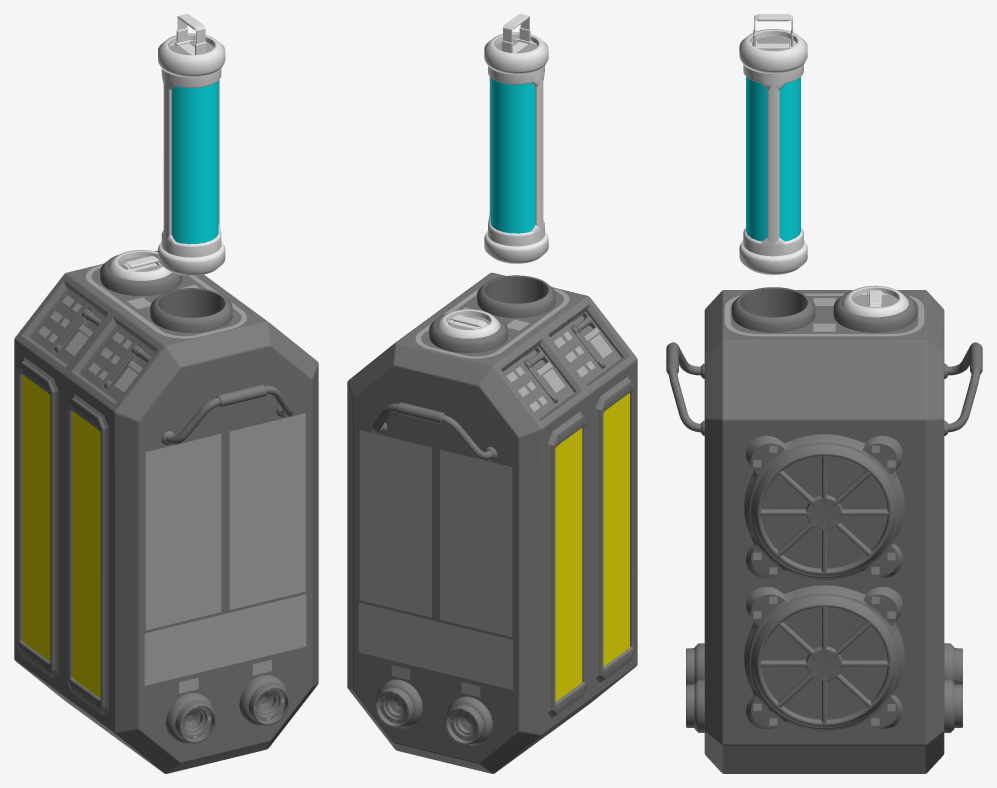
File: Generator_low.fbx
3 views of the same model, side by side, from view 1: azimuth 30°, elevation 25°; view 2: azimuth 150°, elevation 25°; view 3: azimuth 270°, elevation 25° (orthographic). The views are drawn at different scales.
Visible parts, largest first — view 1: Body_low, Powercell_1_low, Trimsheet_low12, Trimsheet_low13, Screen_2_low, Screen_1_low, Trimsheet_low11, tubes_low, Socket_2_low, Socket_1_low, Handle_2_low, Powercell_2_low; view 2: Body_low, Powercell_1_low, Trimsheet_low71, Trimsheet_low72, Screen_2_low, Screen_1_low, Trimsheet_low73, tubes_low, Socket_3_low, Socket_4_low, Handle_1_low, Powercell_2_low; view 3: Body_low, cooling_2_low, cooling_1_low, Powercell_1_low, tubes_low, Powercell_2_low, Handle_1_low, Handle_2_low, Socket_4_low, Socket_2_low, Socket_3_low, Socket_1_low.
Boxes of the visible parts, <box> form: Body_low: <box>14,250,318,773</box>; Powercell_1_low: <box>158,14,225,275</box>; Trimsheet_low12: <box>145,434,221,630</box>; Trimsheet_low13: <box>229,413,305,609</box>; Screen_2_low: <box>67,394,108,714</box>; Screen_1_low: <box>17,357,58,678</box>; Trimsheet_low11: <box>144,594,306,685</box>; tubes_low: <box>100,254,232,332</box>; Socket_2_low: <box>239,675,289,725</box>; Socket_1_low: <box>166,693,216,743</box>; Handle_2_low: <box>161,384,292,445</box>; Powercell_2_low: <box>107,250,171,280</box>; Body_low: <box>347,272,637,773</box>; Powercell_1_low: <box>484,14,548,263</box>; Trimsheet_low71: <box>440,449,512,636</box>; Trimsheet_low72: <box>359,430,431,617</box>; Screen_2_low: <box>595,376,634,682</box>; Screen_1_low: <box>547,411,586,717</box>; Trimsheet_low73: <box>358,602,512,689</box>; tubes_low: <box>429,275,555,353</box>; Socket_3_low: <box>445,696,492,745</box>; Socket_4_low: <box>375,679,422,728</box>; Handle_1_low: <box>372,402,497,460</box>; Powercell_2_low: <box>436,309,500,338</box>; Body_low: <box>704,290,944,773</box>; cooling_2_low: <box>744,585,904,730</box>; cooling_1_low: <box>744,434,904,579</box>; Powercell_1_low: <box>739,14,807,274</box>; tubes_low: <box>731,287,917,332</box>; Powercell_2_low: <box>841,285,909,317</box>; Handle_1_low: <box>944,342,982,435</box>; Handle_2_low: <box>666,342,704,435</box>; Socket_4_low: <box>944,679,962,732</box>; Socket_2_low: <box>686,679,704,732</box>; Socket_3_low: <box>944,643,962,684</box>; Socket_1_low: <box>686,643,704,684</box>.
Size of the model in its own units: 54.8 by 169 by 65.99.
